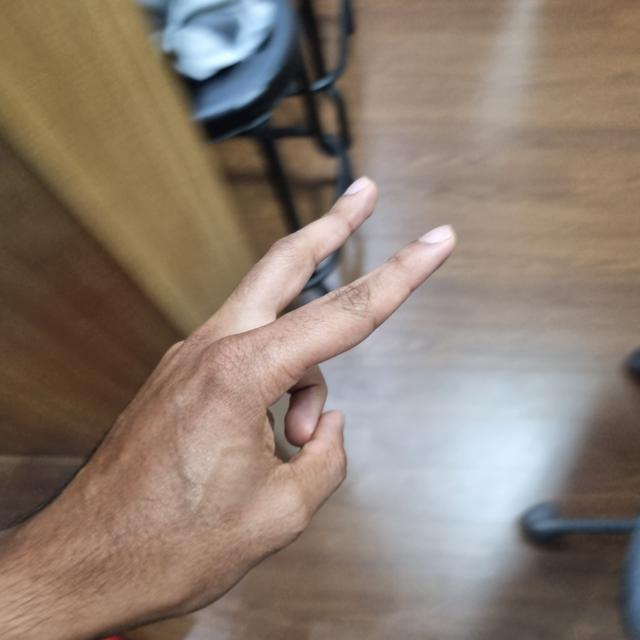Scissors: (16, 183, 453, 631)
